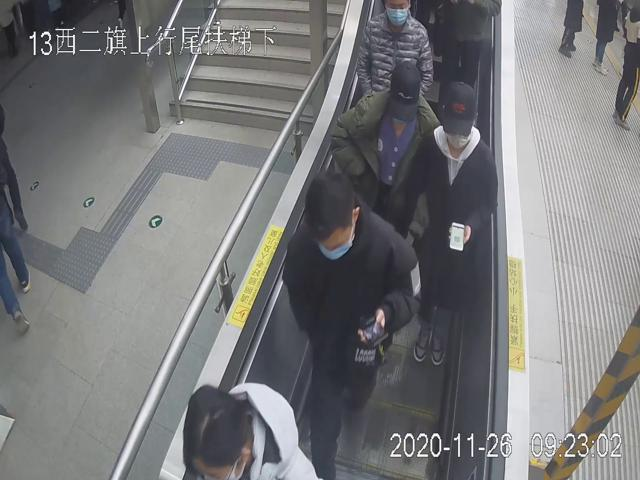person: (281, 172, 422, 480), (408, 81, 498, 364), (327, 56, 440, 232), (356, 0, 434, 96)
